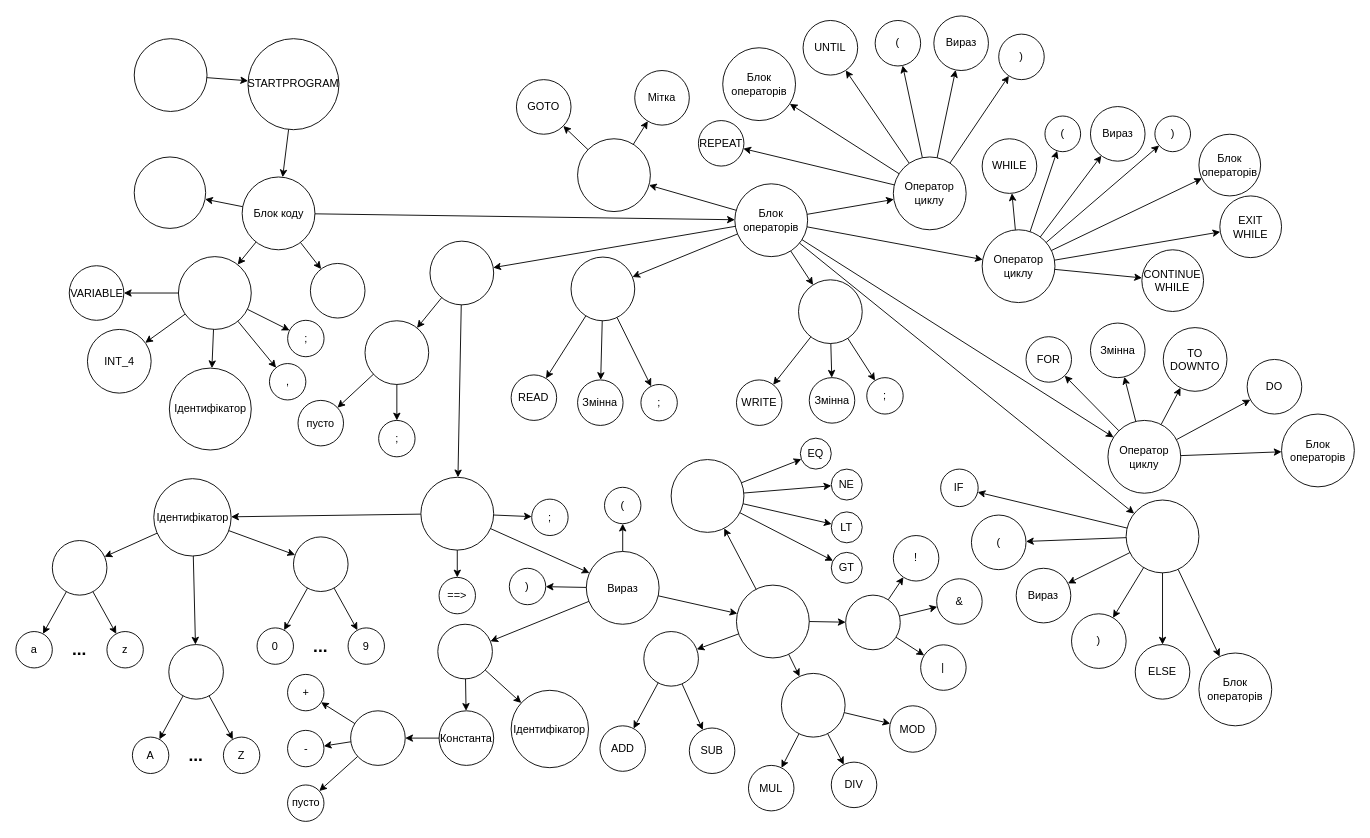
Image size: 1370x838. Some labels were removed from this diagram. The centre of each missing label's shape, as x and y in pixels:
ENDBLOK: pixel 337 290
STARTBLOK: pixel 169 192
Адитивна операція: pixel 670 658
Блок змінних: pixel 214 292
Велика буква: pixel 195 671
Знак: pixel 377 737
Логічна операція: pixel 872 622
Мала буква: pixel 79 567
Мультиплі кативна операція: pixel 813 704
Операнд: pixel 464 651
Оператор вводу: pixel 602 288
Оператор виводу: pixel 830 311
Оператор переходу: pixel 613 175
Оператор умови: pixel 1162 536
Операції: pixel 772 621
Операції порівняння: pixel 707 495
Основна програма: pixel 170 74
Порожній оператор: pixel 396 352
Присвоєння: pixel 457 513
Простий оператор: pixel 461 272
Цифра: pixel 320 564
